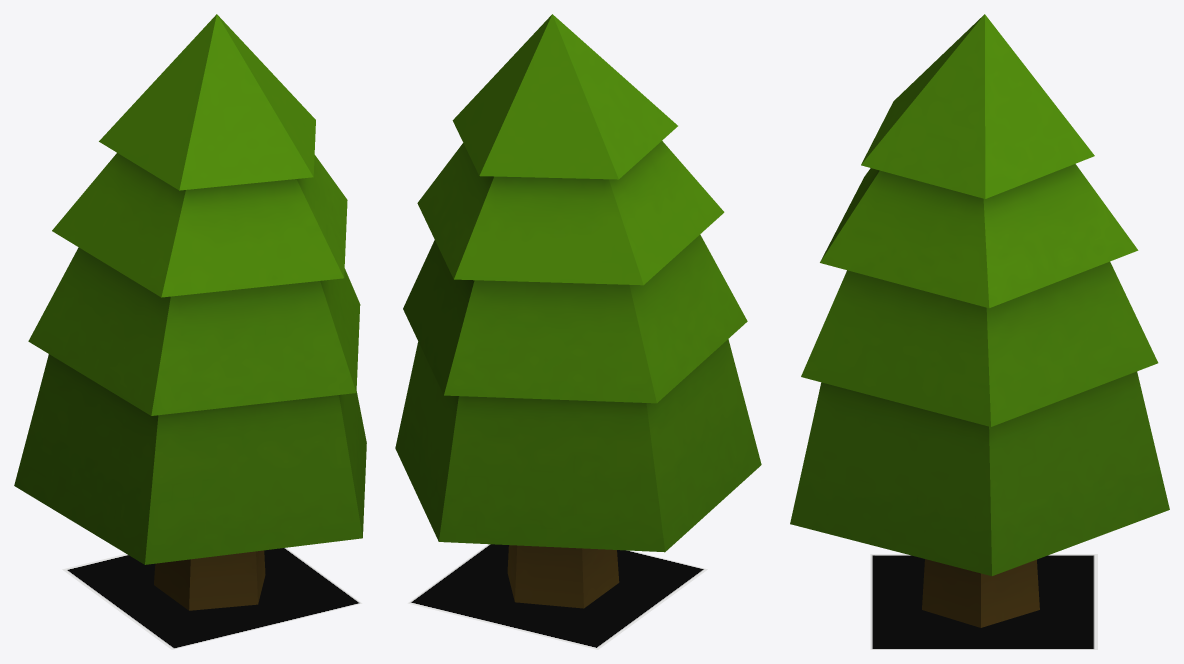
The model's file is 1x1_tree.FBX.
3 renders of one model, left to right at view 1: azimuth 30°, elevation 25°; view 2: azimuth 150°, elevation 25°; view 3: azimuth 270°, elevation 25°, orthographic. The views are drawn at different scales.
Visible parts, largest first — view 1: 1x1_tree, 1x1_tree_soft_shadow; view 2: 1x1_tree, 1x1_tree_soft_shadow; view 3: 1x1_tree, 1x1_tree_soft_shadow.
Part boxes in pixels (x1=…): 1x1_tree: x1=14, y1=14, x2=366, y2=610; 1x1_tree_soft_shadow: x1=62, y1=547, x2=362, y2=649; 1x1_tree: x1=395, y1=14, x2=761, y2=608; 1x1_tree_soft_shadow: x1=407, y1=544, x2=707, y2=649; 1x1_tree: x1=790, y1=14, x2=1169, y2=627; 1x1_tree_soft_shadow: x1=870, y1=554, x2=1097, y2=649.
Bounding box in the file's own units: 1036 × 1834 × 1059.
